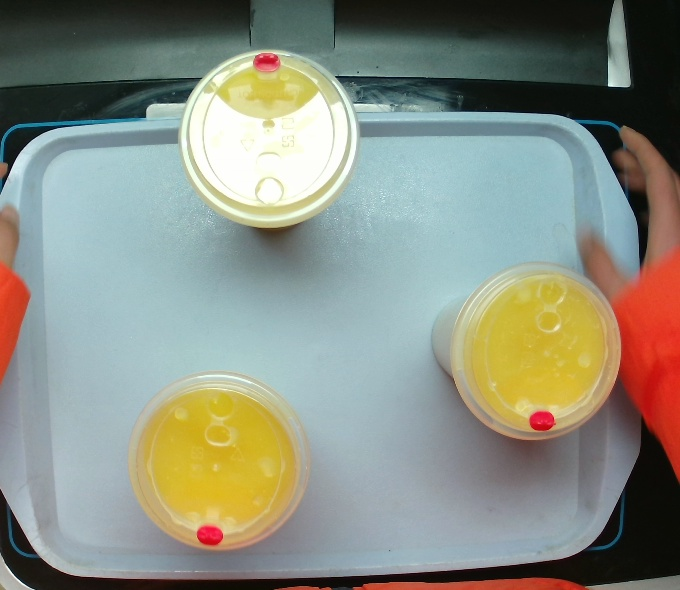wcq-ChengZhi: (428, 261, 624, 442), (174, 45, 362, 233), (124, 370, 314, 555)
